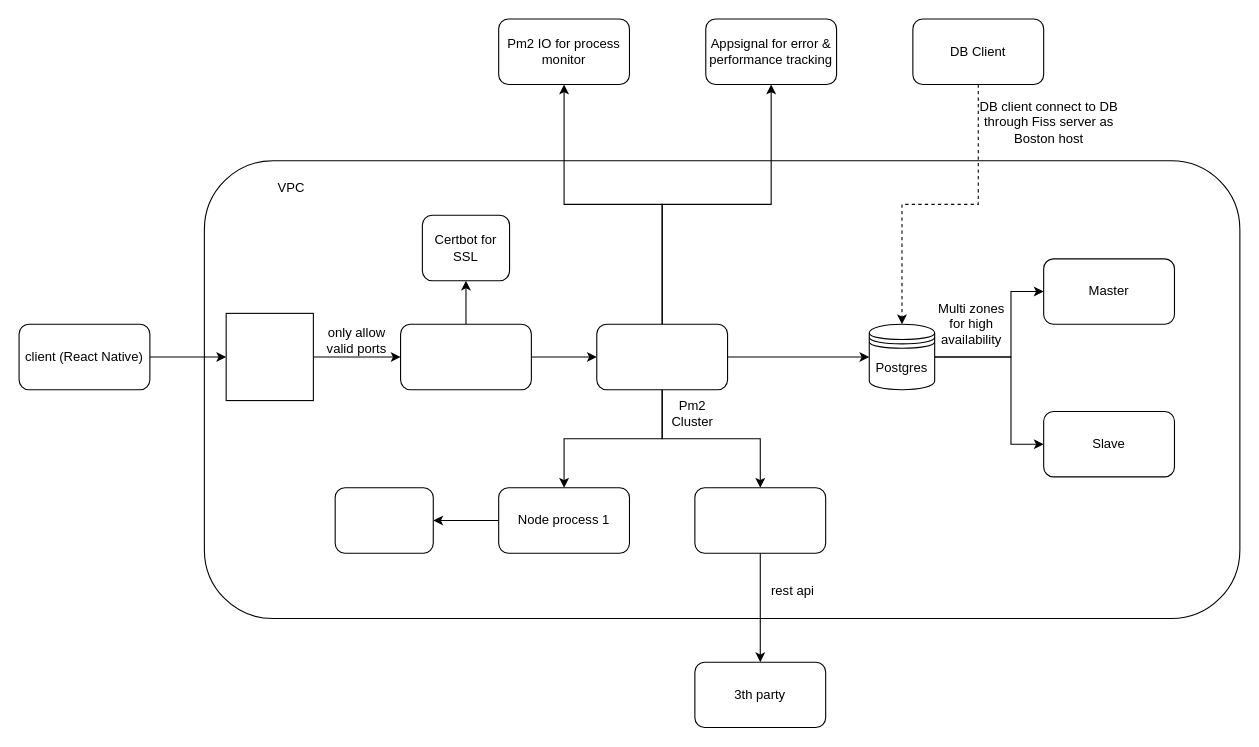
This 1259x747 diagram has some shape labels left out. The centre of each missing label's shape, as x and y in pixels:
Firewall: the point at 269,356
Fiss server: the point at 662,356
In-memory cache: the point at 383,520
Nginx: the point at 465,356
Node process 2: the point at 760,520
